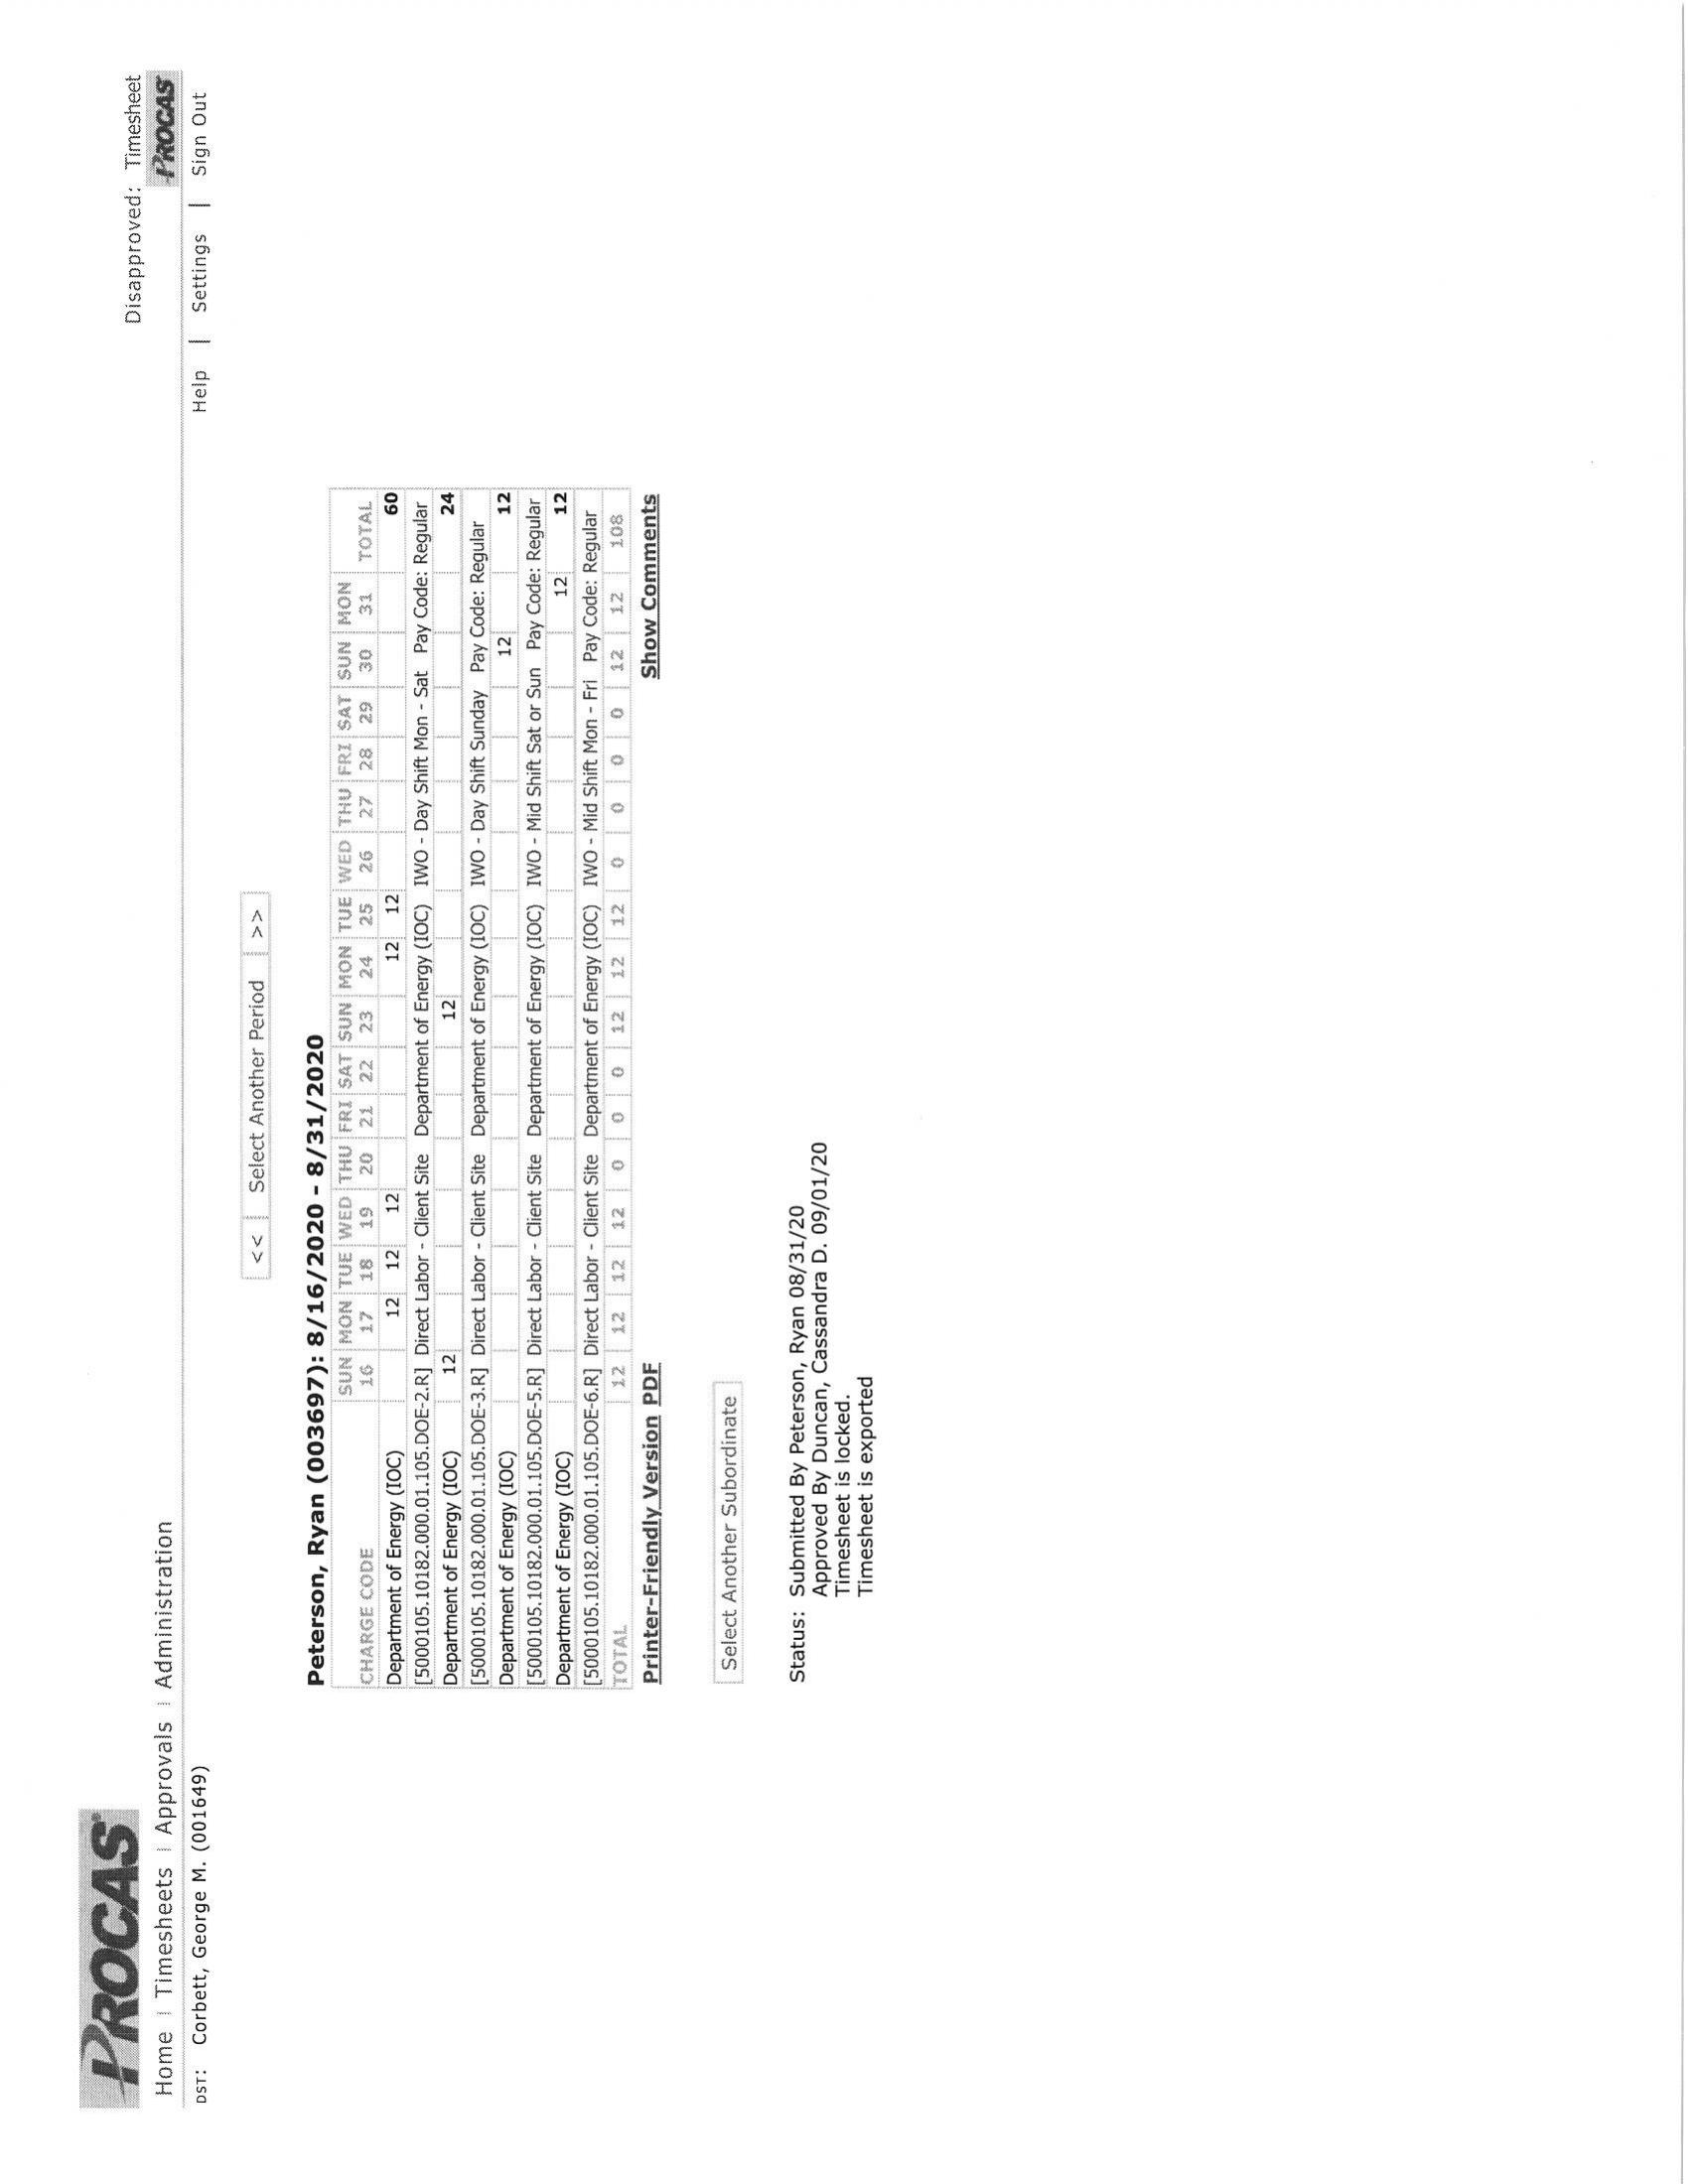table: (323, 482, 628, 1689)
